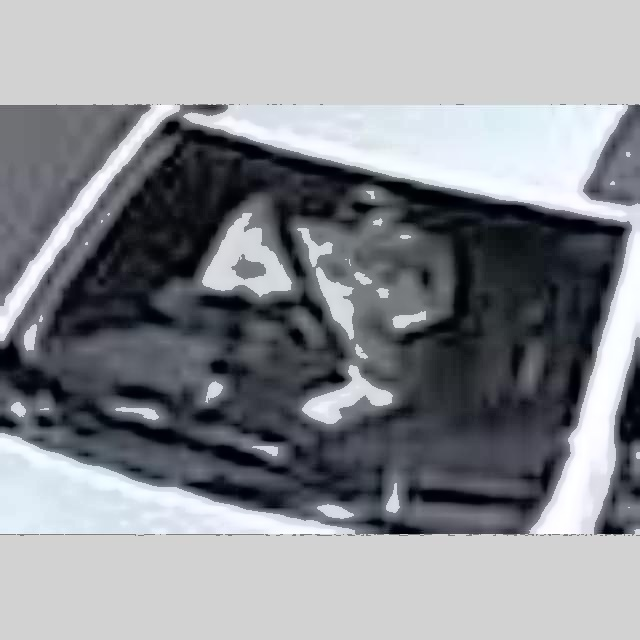pakai: (166, 143, 467, 429)
